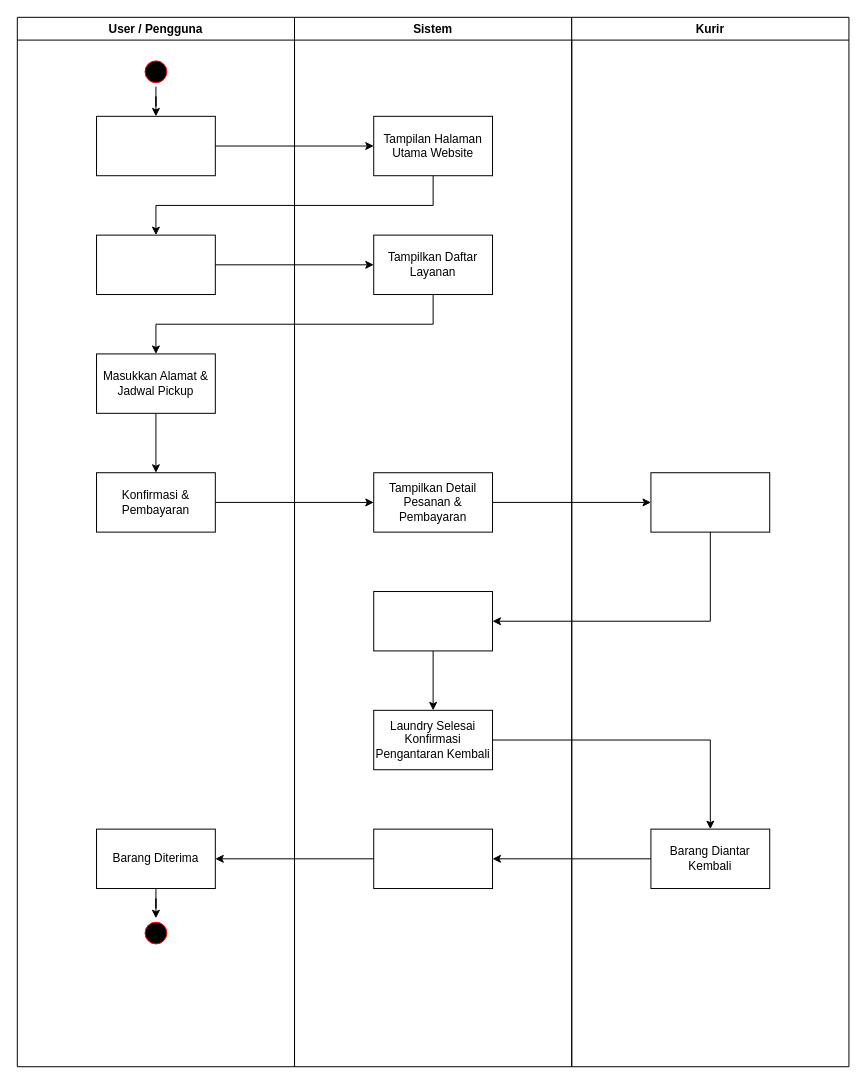
The diagram is 866 pixels wide and 1084 high, and some of its shapes have lost their labels. Here are the shapes that lost their labels. From the top down, the centre of each, then its label:
the point at 155,145: Login
the point at 155,264: Pilih Layanan Laundry
the point at 710,502: Mengambil Pakaian
the point at 433,621: Notifikasi Proses & Status Laundry
the point at 433,858: Notifkasi Pesanan Selesai
